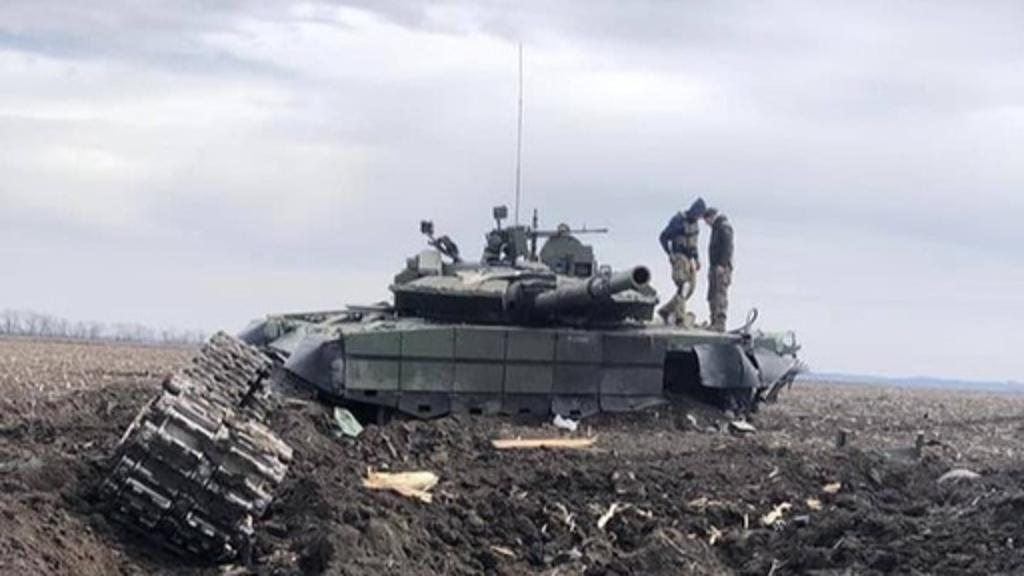TANK: (236, 208, 796, 426)
